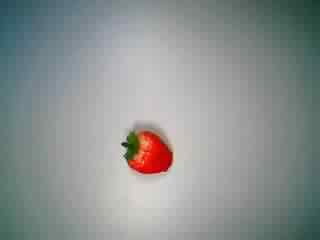strawberry: (108, 117, 181, 181)
